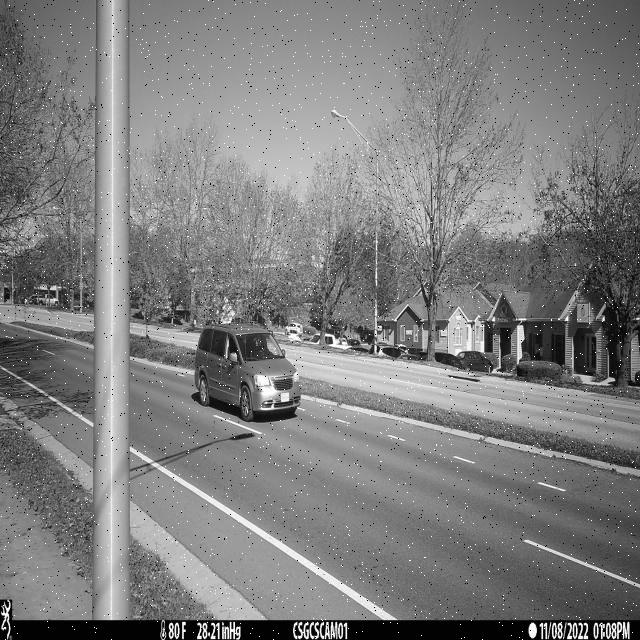Van: (195, 324, 302, 422)
